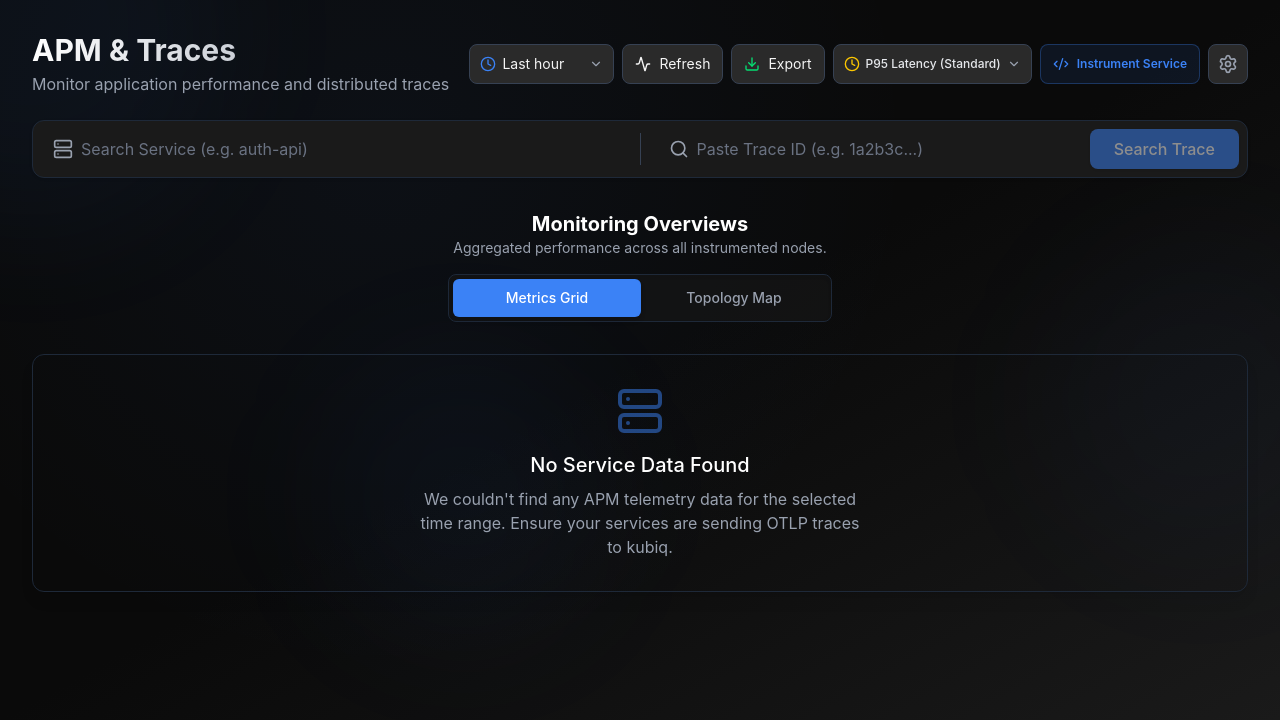
Test: APM dashboard characterization › keeps export errors visible and permits retry after a transport failure
Click the button "Export" at coordinates (778, 64), box x1=731 y1=44 x2=824 y2=84
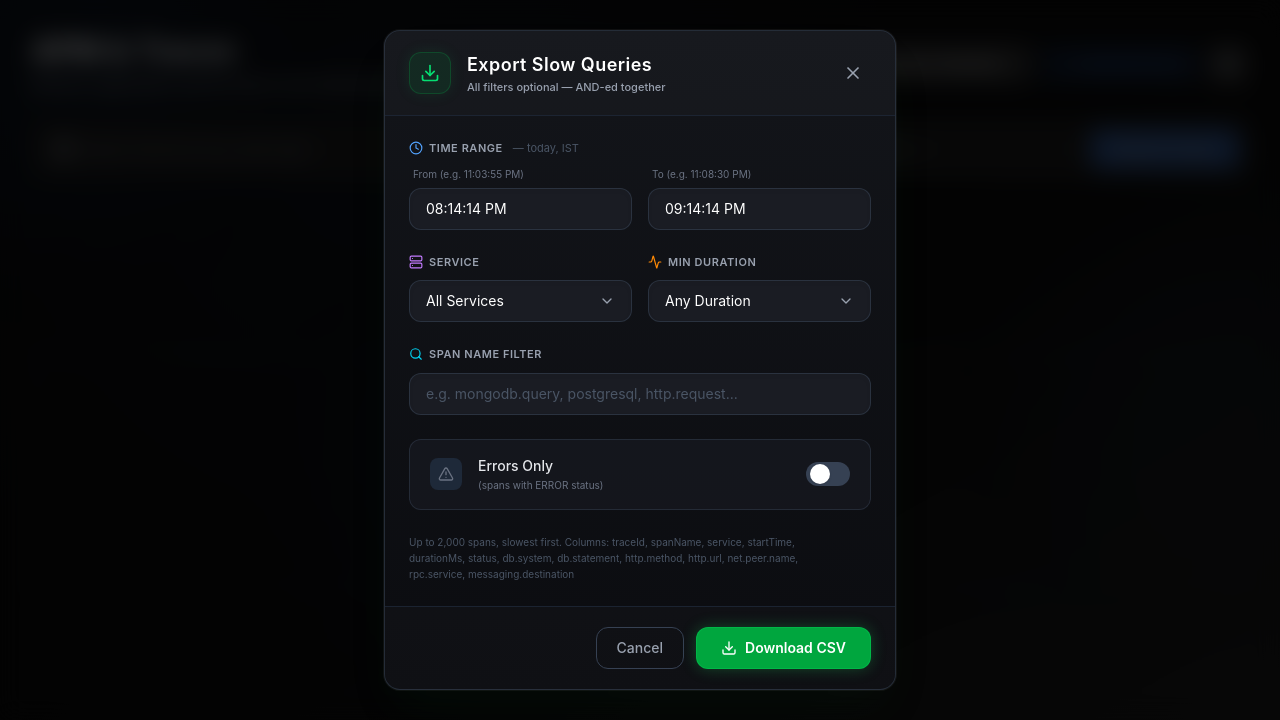
Click the button "Download CSV" at coordinates (784, 648), box x1=696 y1=627 x2=871 y2=669
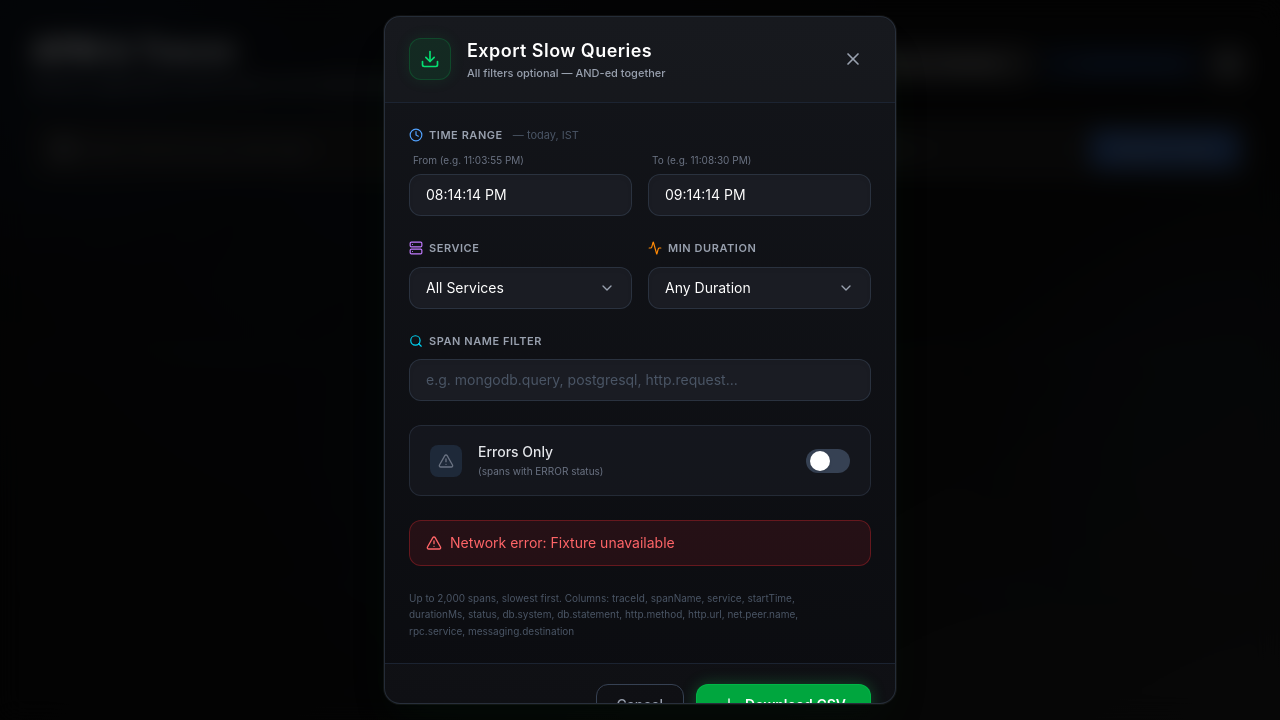
Now the heading "Export Slow Queries" is shown, box x1=467 y1=37 x2=666 y2=65
Now the text "Network error: Fixture unavailable" is shown, box x1=450 y1=533 x2=675 y2=553
